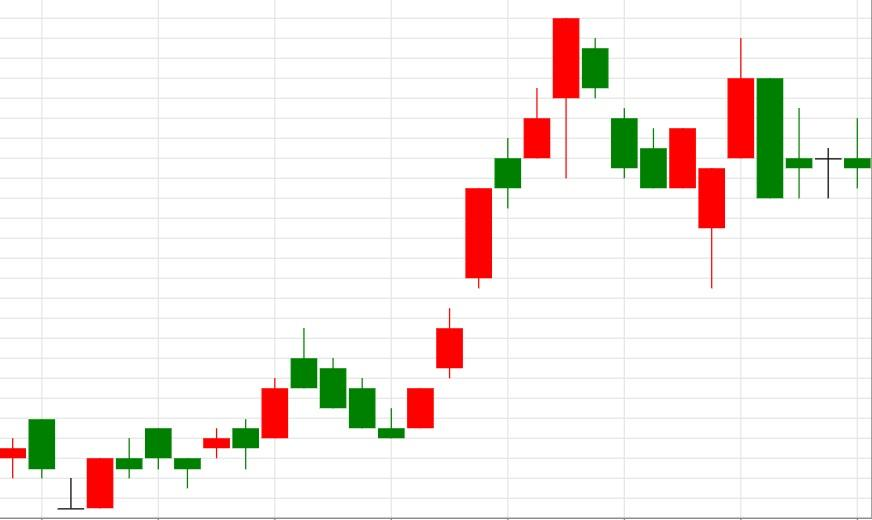three_white_soldiers_rise: (290, 187, 493, 439)
